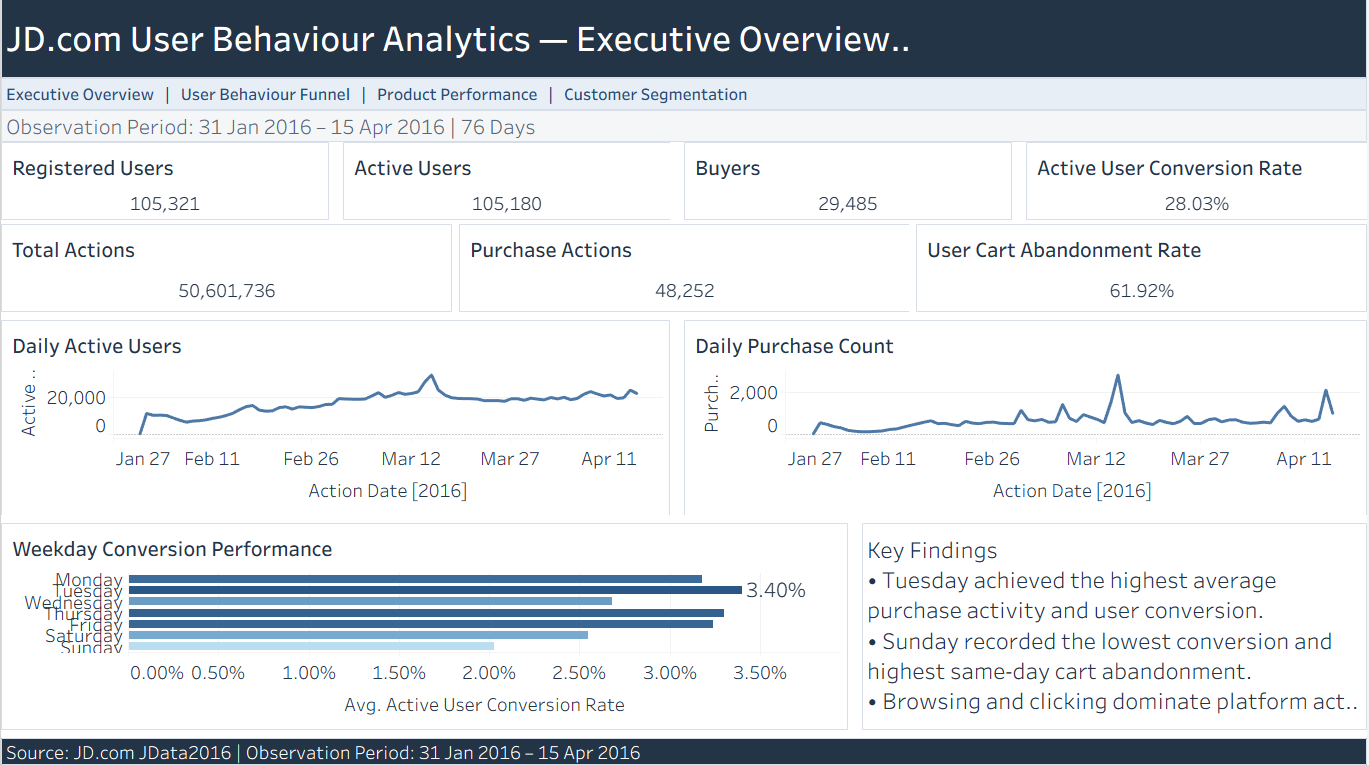

Layout of this report page (visuals, bound fields, positions):
{"tool":"tableau","page":{"name":"Executive Overview","canvas":[1366,768],"ordinal":1},"visuals":[{"type":"text","box":[0,0,1366,80.6]},{"type":"text","box":[0,80.6,1366,32.4]},{"type":"text","box":[0,113,1366,32]},{"type":"worksheet","title":"KPI - Registered Users","mark":"Automatic","box":[0,145,327.8,77.7]},{"type":"worksheet","title":"KPI - Active Users","mark":"Automatic","box":[341.5,145,327.8,77.7]},{"type":"worksheet","title":"KPI - Buyers","mark":"Automatic","box":[683,145,327.8,77.7]},{"type":"worksheet","title":"KPI - User Conversion Rate","mark":"Automatic","box":[1024.5,145,341.5,77.7]},{"type":"worksheet","title":"KPI - Total Actions","mark":"Automatic","box":[0,226.6,450.8,88.3]},{"type":"worksheet","title":"KPI - Purchase Actions","mark":"Automatic","box":[457.6,226.6,450.8,88.3]},{"type":"worksheet","title":"KPI - Cart Abandonment Rate","mark":"Automatic","box":[915.2,226.6,450.8,88.3]},{"type":"worksheet","title":"Daily Active Users Trend","mark":"Line","rows":["active_users"],"cols":["action_date"],"box":[0,322.6,669.3,195.8]},{"type":"worksheet","title":"Daily Purchase Trend","mark":"Line","rows":["purchase_count"],"cols":["action_date"],"box":[683,322.6,683,195.8]},{"type":"worksheet","title":"Weekday Conversion Performance","mark":"Bar","rows":["day_name"],"cols":["active_user_conversion_rate"],"box":[0,526.1,846.9,207.4]},{"type":"text","box":[860.6,526.1,505.4,207.4]},{"type":"text","box":[0,741.1,1366,26.9]}]}

Visuals, with their boxes in screenshot pixels (x1, y1, x2, y2), scaled from the page's 1366x768 canvas onto the 1369x765 screenshot:
text: 0, 0, 1368, 80
text: 0, 80, 1368, 113
text: 0, 113, 1368, 144
"KPI - Registered Users" worksheet: 0, 144, 329, 222
"KPI - Active Users" worksheet: 342, 144, 671, 222
"KPI - Buyers" worksheet: 685, 144, 1013, 222
"KPI - User Conversion Rate" worksheet: 1027, 144, 1368, 222
"KPI - Total Actions" worksheet: 0, 226, 452, 314
"KPI - Purchase Actions" worksheet: 459, 226, 910, 314
"KPI - Cart Abandonment Rate" worksheet: 917, 226, 1368, 314
"Daily Active Users Trend" worksheet (Line marks): 0, 321, 671, 516
"Daily Purchase Trend" worksheet (Line marks): 685, 321, 1368, 516
"Weekday Conversion Performance" worksheet (Bar marks): 0, 524, 849, 731
text: 862, 524, 1368, 731
text: 0, 738, 1368, 764
